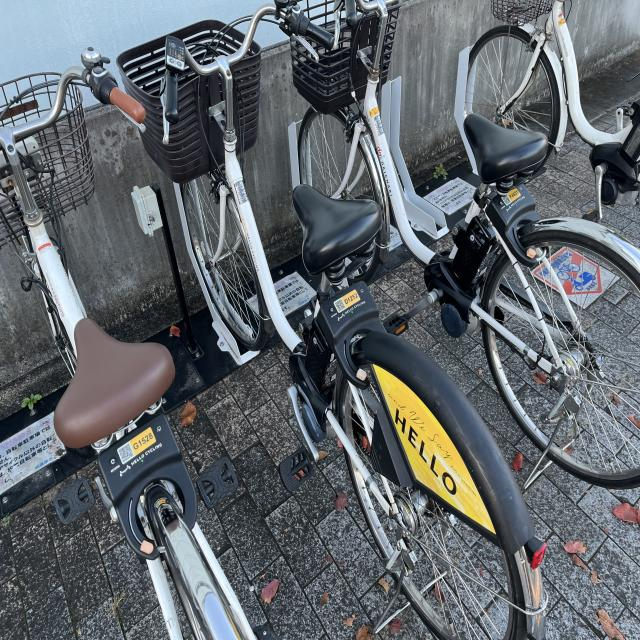basket: (115, 22, 263, 181)
battery: (449, 214, 494, 292), (306, 316, 338, 396)
